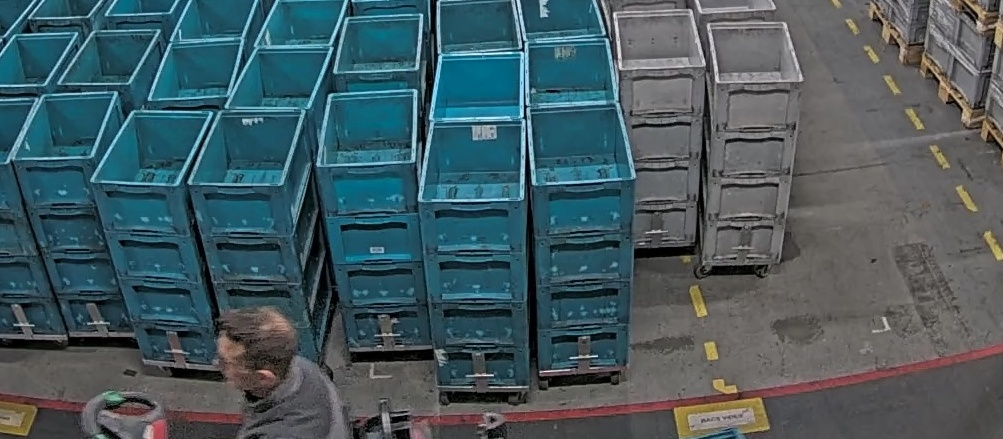4G: (701, 20, 805, 265), (610, 8, 707, 245)
B4: (186, 106, 329, 366), (90, 109, 226, 368), (523, 101, 639, 372), (313, 89, 433, 348), (10, 89, 135, 334), (416, 117, 528, 387)
